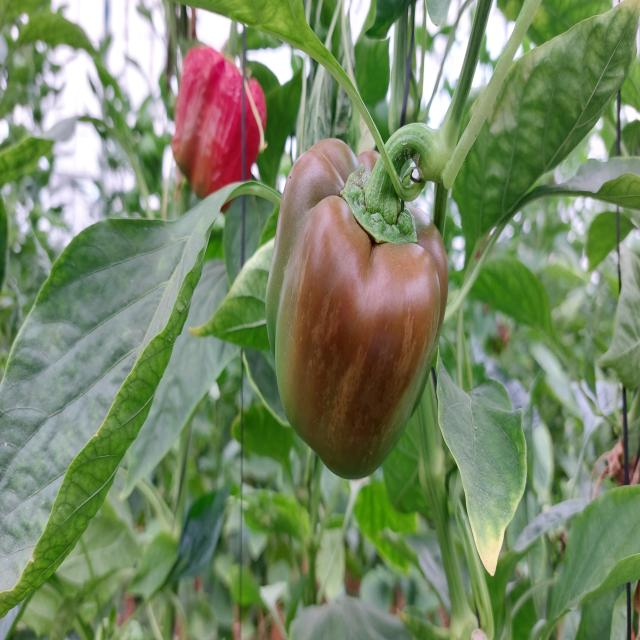BrownishRed--Can-be-Harvested: (282, 142, 454, 470)
Red-Ready-to-Harvest: (172, 47, 264, 177)
